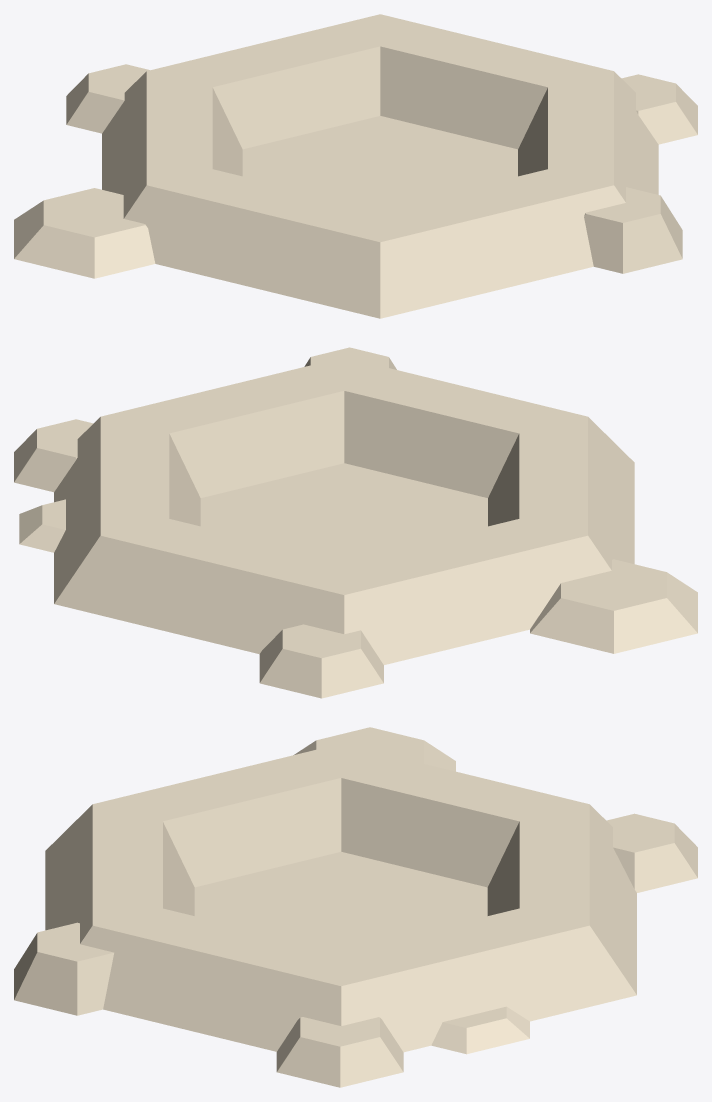
File: trou_de_sable.glb
3 views of the same model, one above another, from view 1: azimuth 30°, elevation 25°; view 2: azimuth 150°, elevation 25°; view 3: azimuth 270°, elevation 25° (orthographic). The views are drawn at different scales.
Visible parts, largest first — view 1: trou_de_sable_assimp; view 2: trou_de_sable_assimp; view 3: trou_de_sable_assimp.
Part boxes in pixels (x1,y1,x2,y2): trou_de_sable_assimp: (14, 14, 697, 318); trou_de_sable_assimp: (14, 347, 697, 698); trou_de_sable_assimp: (14, 727, 697, 1087).
Bounding box in the file's own units: 10.23 × 0.8 × 8.51.
